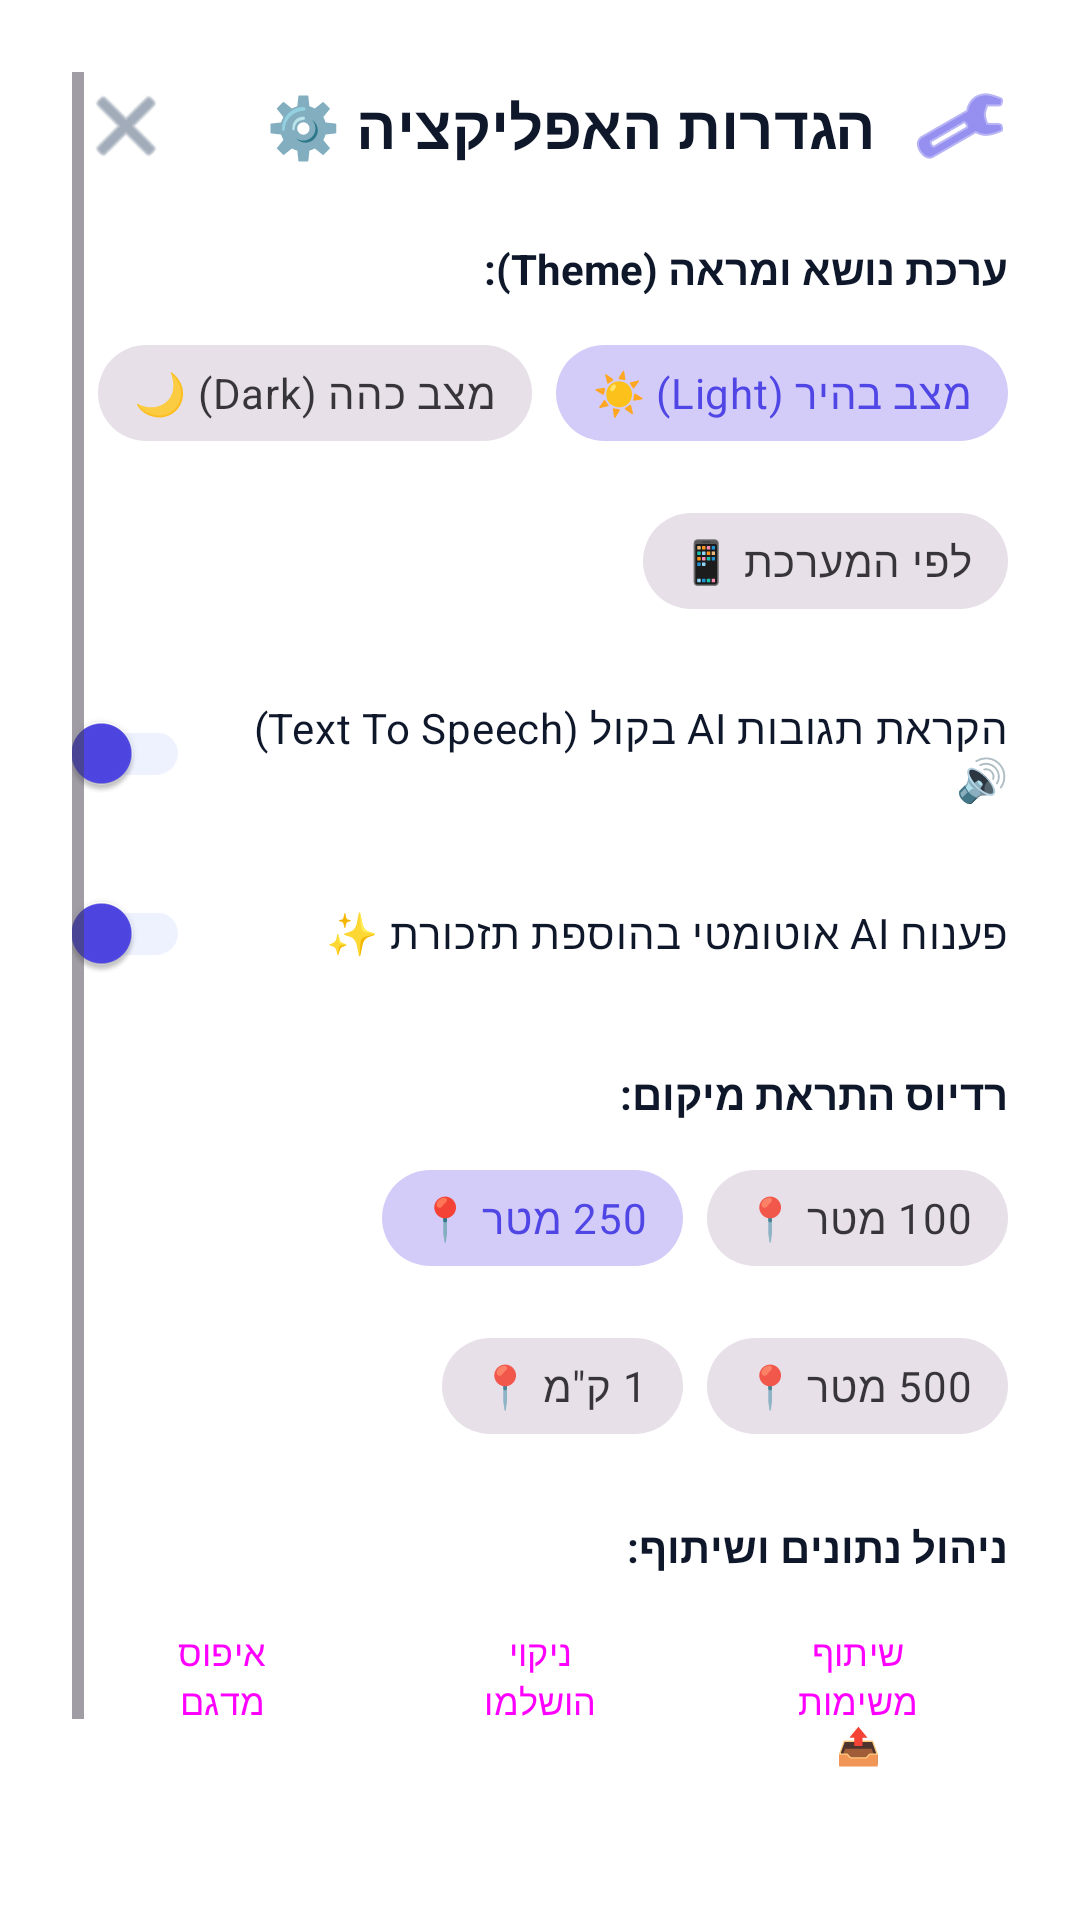

Where icons sit on this 1080 x 1920 app screen, as {"left": x1, "top": y1, "right": x2, "bottom": y2}:
close clear cancel: {"left": 96, "top": 96, "right": 156, "bottom": 156}
preferences: {"left": 917, "top": 93, "right": 1003, "bottom": 159}
